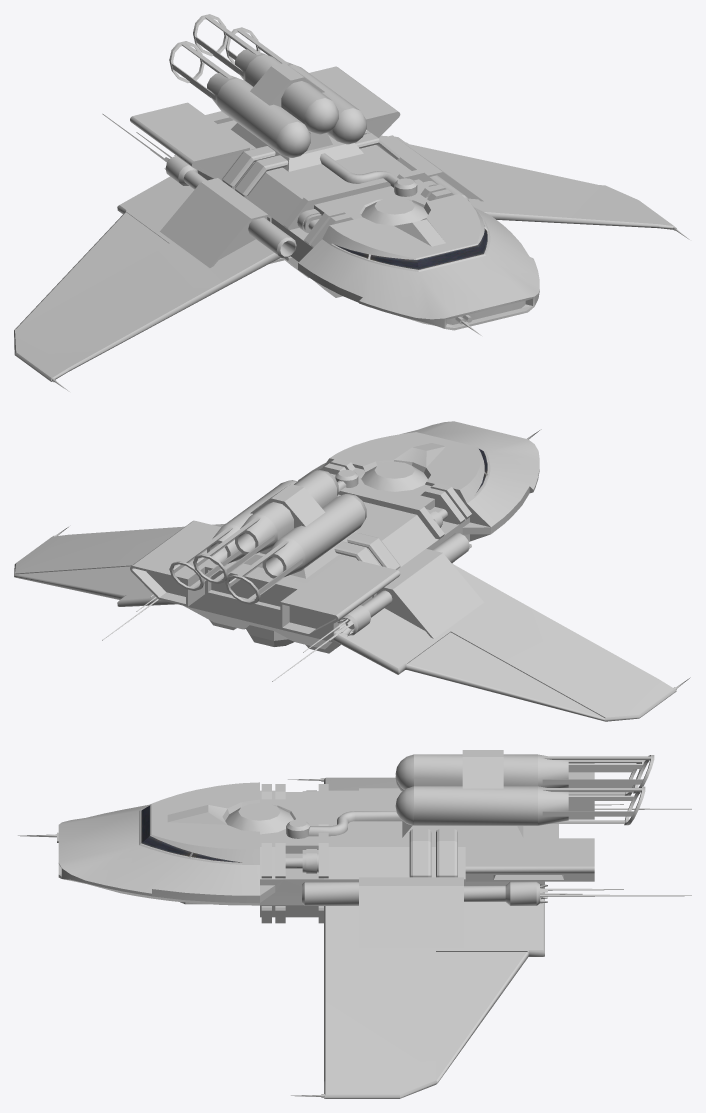
The model's file is rebel_gunboat_l0.fbx.
The picture shows the model from 3 angles, top to bottom: view 1: azimuth 30°, elevation 25°; view 2: azimuth 150°, elevation 25°; view 3: azimuth 270°, elevation 25°; orthographic projection. The views are drawn at different scales.
Visible parts, largest first — view 1: mesh_node; view 2: mesh_node; view 3: mesh_node.
Part boxes in pixels (left/top/right/bottom): mesh_node: left=14, top=14, right=689, bottom=391; mesh_node: left=14, top=421, right=690, bottom=721; mesh_node: left=18, top=750, right=691, bottom=1098.
Bounding box in the file's own units: 102 × 27.94 × 91.94.
